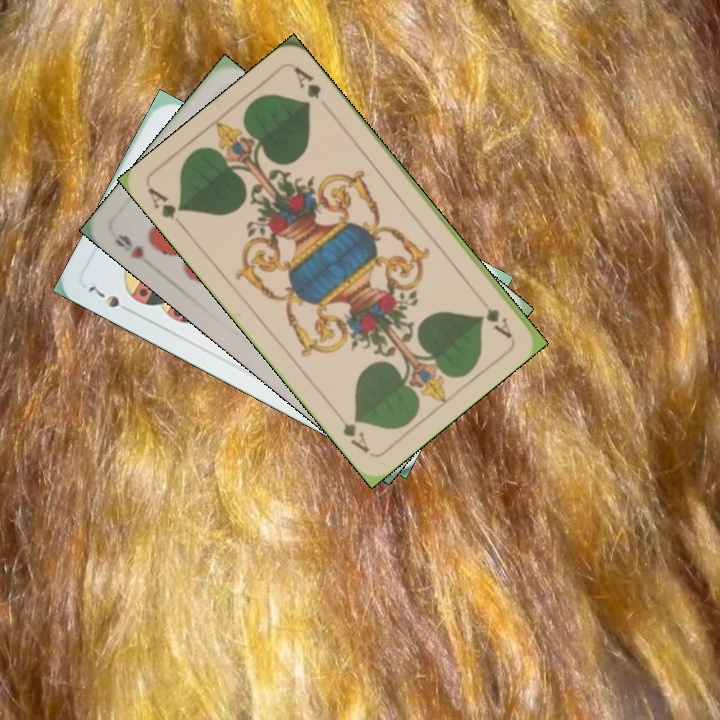GA: (144, 184, 189, 233), (481, 304, 515, 341)
H9: (110, 229, 147, 262)
S7: (84, 281, 122, 311)
